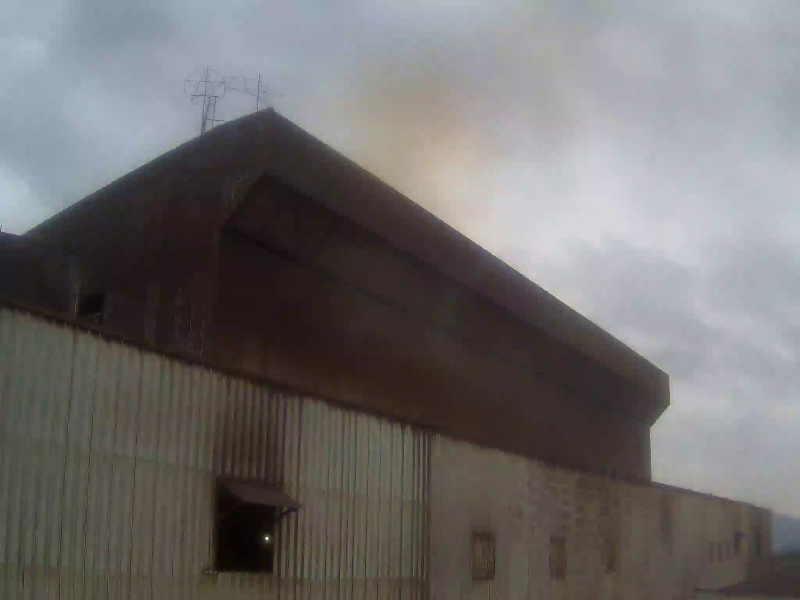Ruim: (379, 31, 470, 264)
